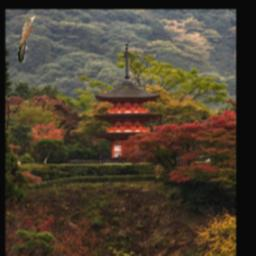Cuckoo: (18, 13, 37, 62)
